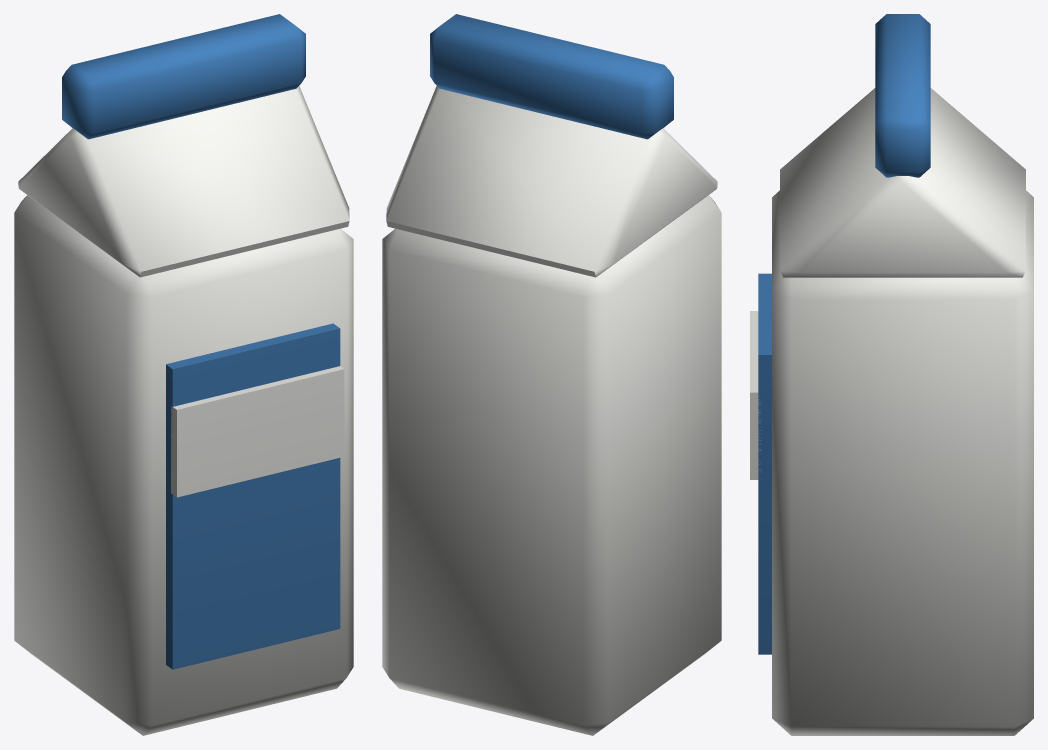
The model's file is Carton_Milk_01.glb.
3 views of the same model, side by side, from view 1: azimuth 30°, elevation 25°; view 2: azimuth 150°, elevation 25°; view 3: azimuth 270°, elevation 25° (orthographic).
Visible parts, largest first — view 1: SM_Carton_Milk_01; view 2: SM_Carton_Milk_01; view 3: SM_Carton_Milk_01.
Part boxes in pixels (x1=…): SM_Carton_Milk_01: x1=14, y1=14, x2=353, y2=735; SM_Carton_Milk_01: x1=382, y1=14, x2=721, y2=735; SM_Carton_Milk_01: x1=750, y1=14, x2=1033, y2=735.
Bounding box in the file's own units: 0.095 × 0.25 × 0.103.
1 material, 1 textured.
